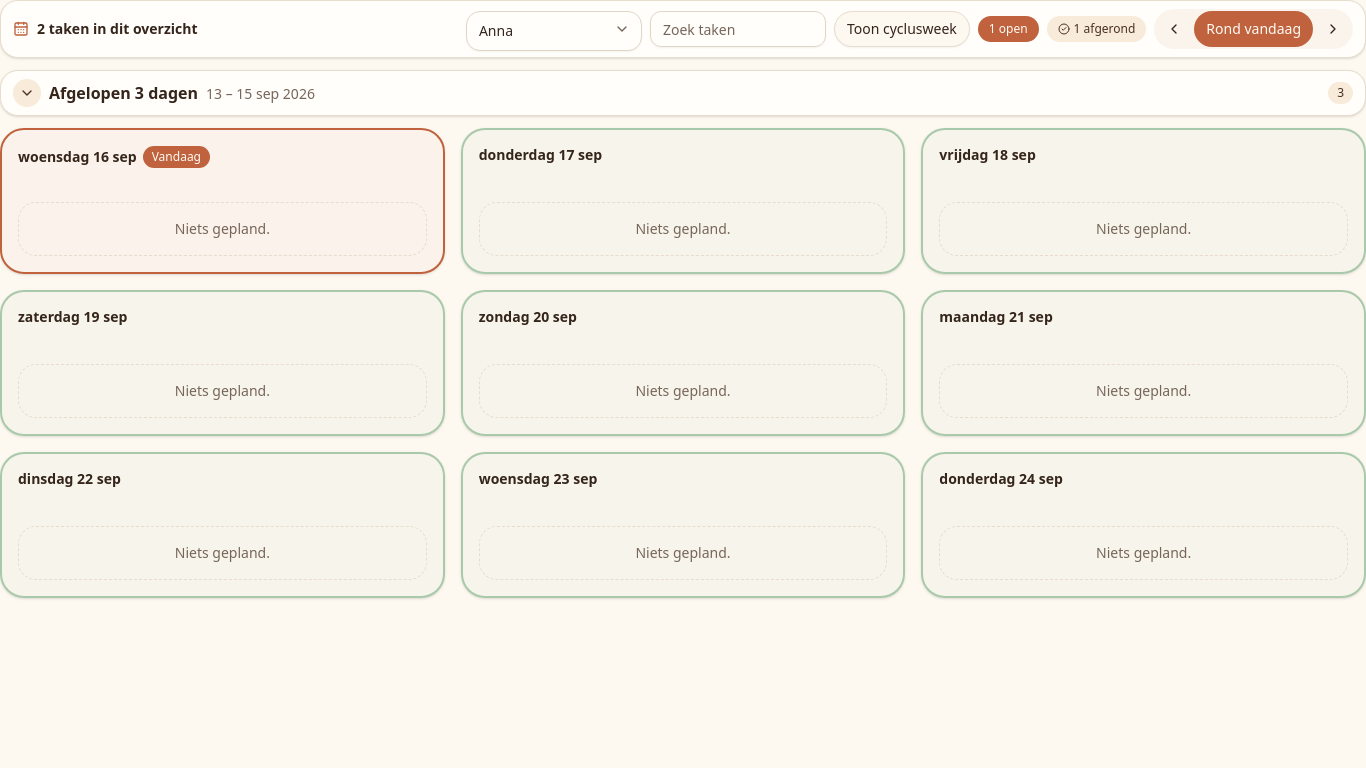
Scenario: WeekPage › filters the overview by person and by unassigned tasks
Click the button "Afgelopen 3 dagen 13 – 15 sep 2026 3" at (124, 93), box [0,70,1365,116]
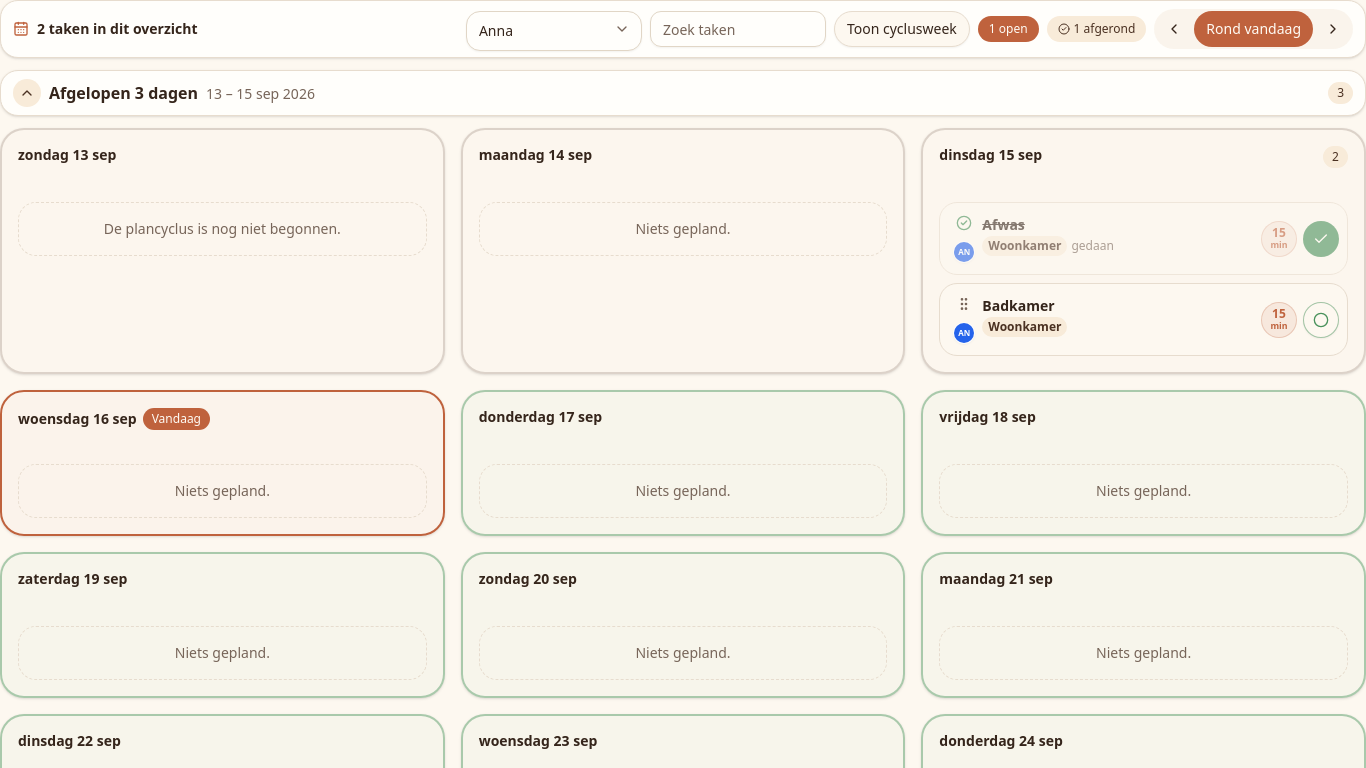
expect the text "Stofzuigen" is not shown: met
Select "Bram de Vries" in the dropdown named "Filter op persoon" at (554, 31), box [466,11,642,51]
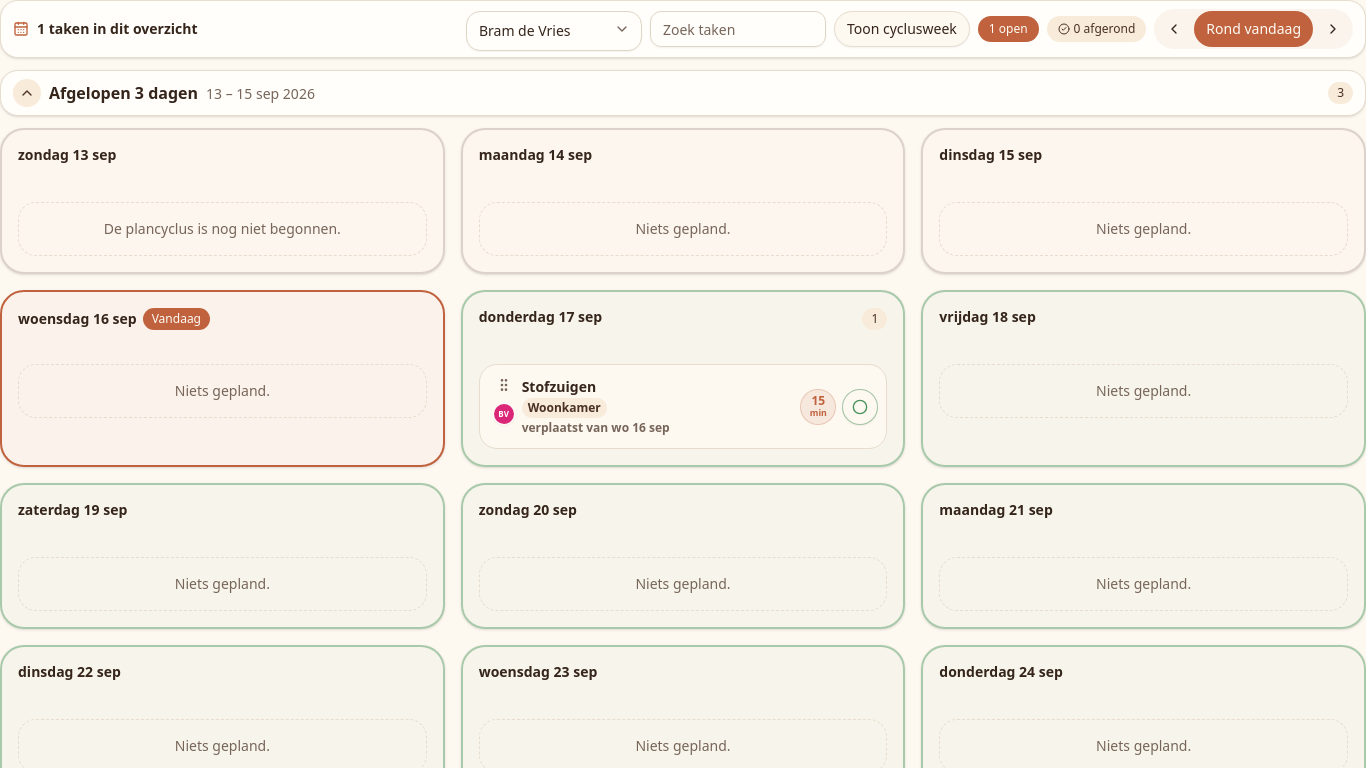
expect the text "Stofzuigen" is shown: met, box [522,377,596,396]
expect the button "Badkamer" is gone: met
Select "Samen / wie dan ook" in the dropdown named "Filter op persoon" at (554, 31), box [466,11,642,51]
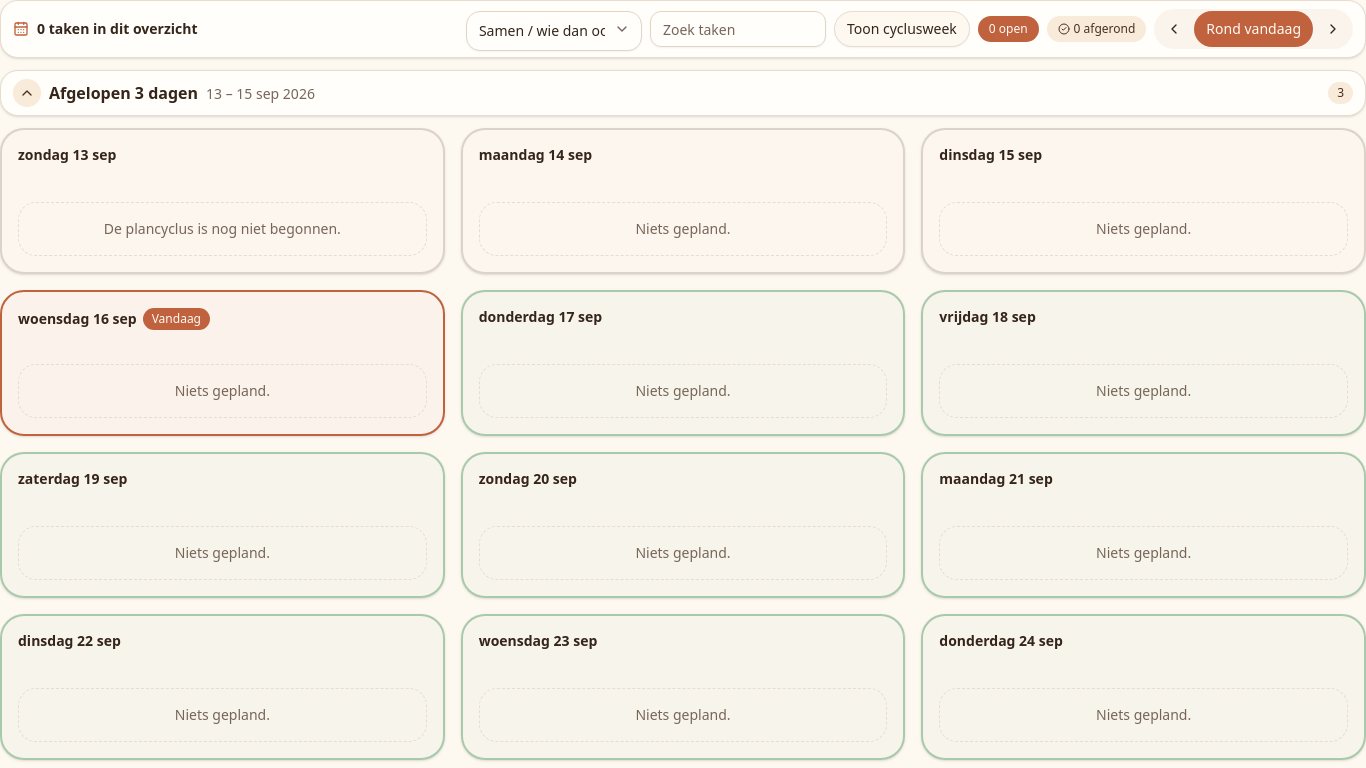
expect the text "Niets gepland." below "maandag 14 sep" is shown: met, box [635,219,731,238]
expect the button "Stofzuigen" is gone: met
